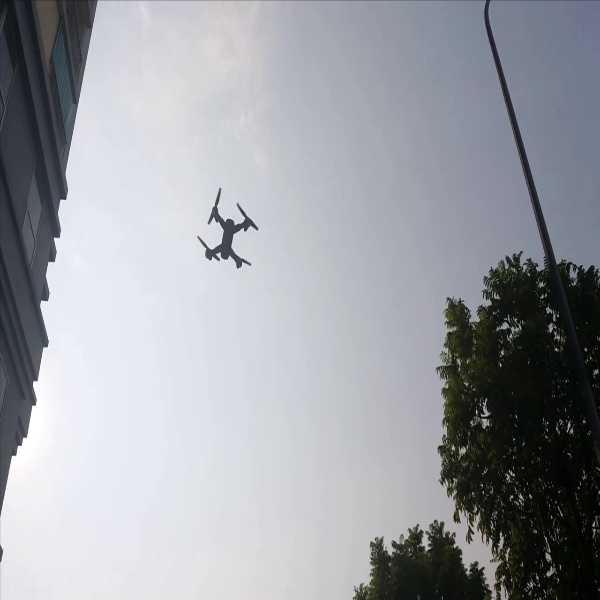drone: (192, 179, 265, 274)
